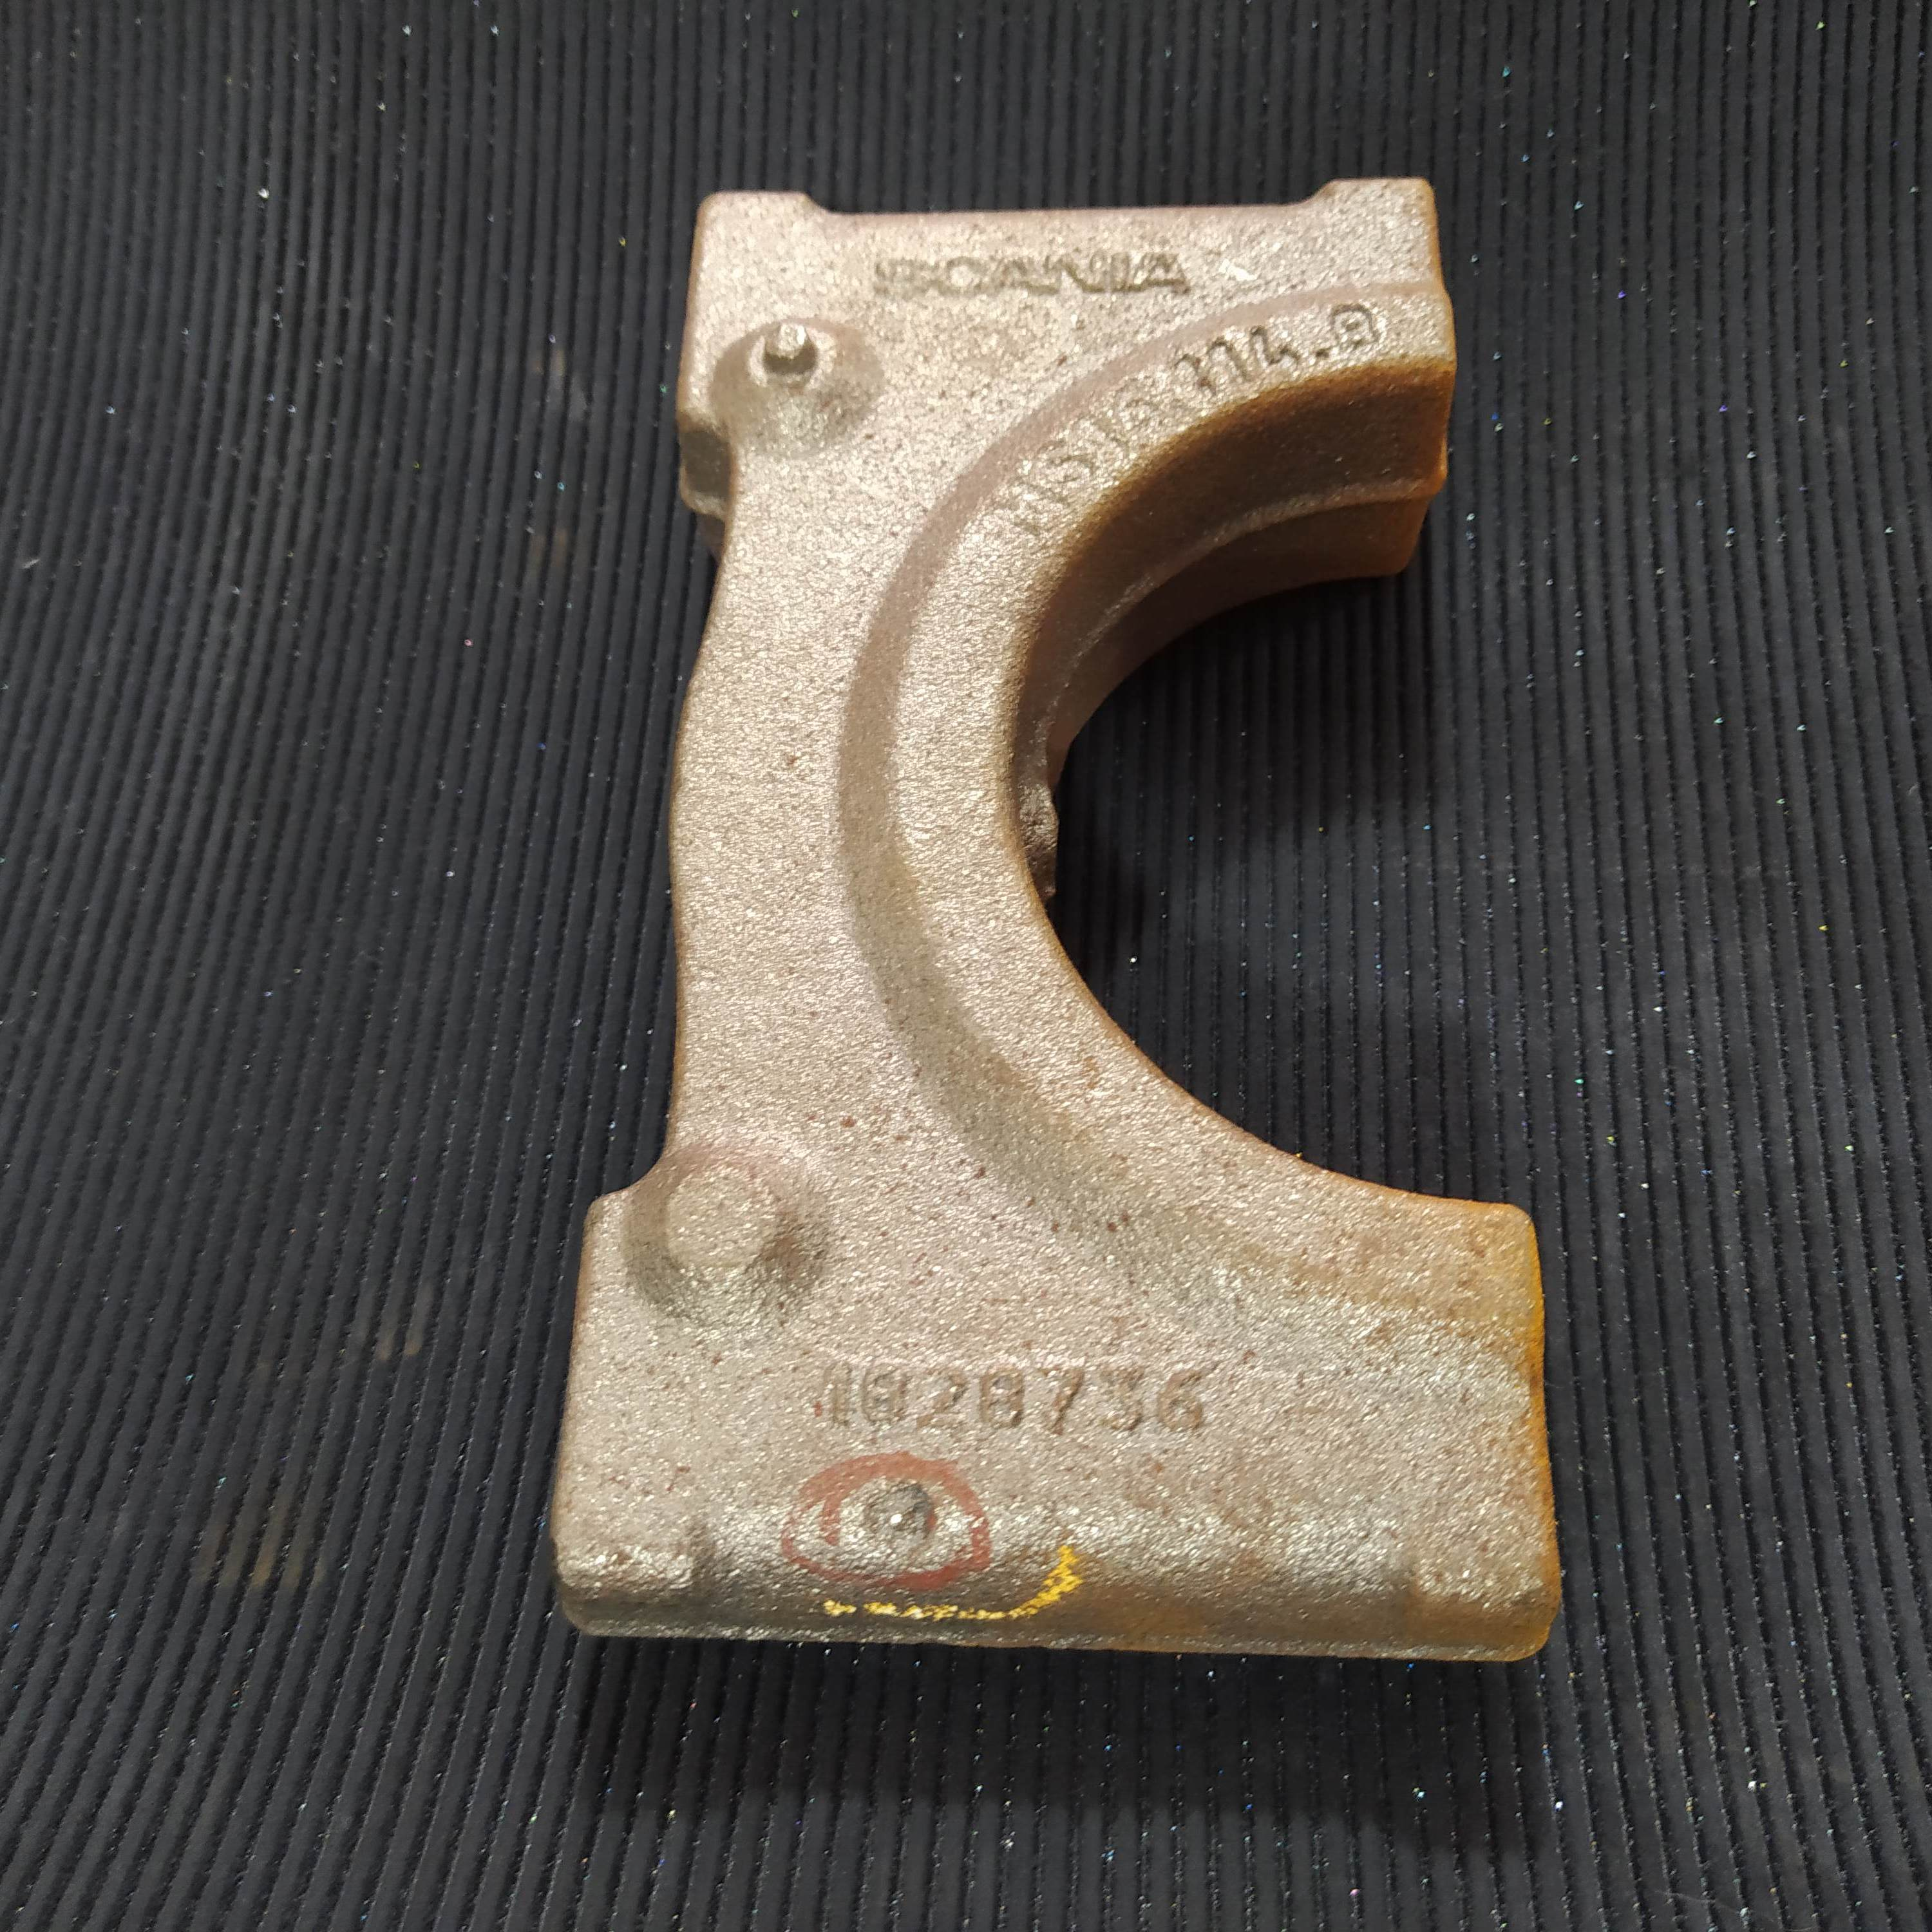buraco: (856, 1481, 938, 1555)
